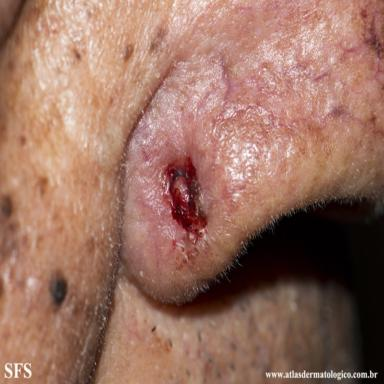basal-cell-carcinoma: (163, 157, 209, 243)
